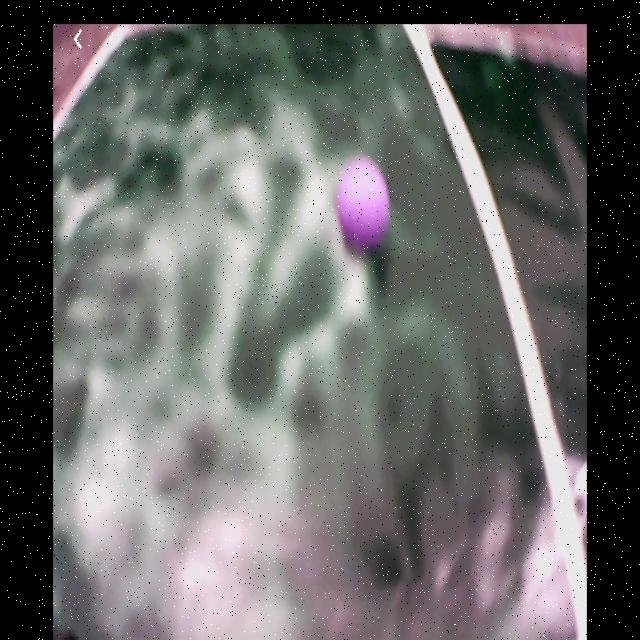ball: (338, 159, 390, 247)
